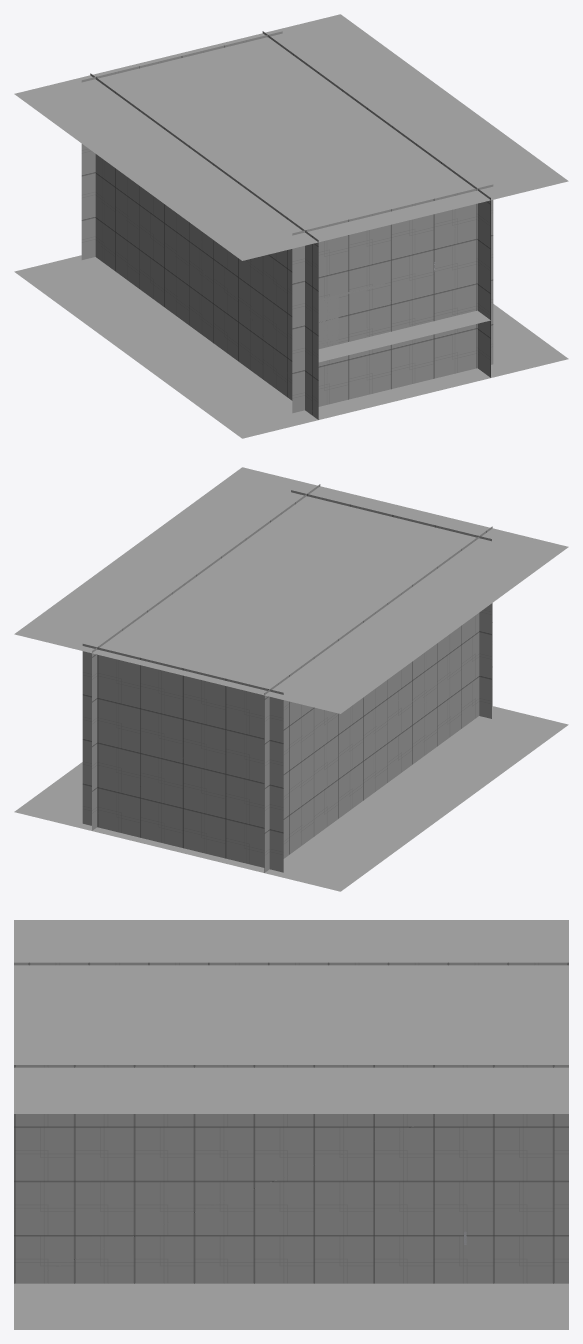
The model's file is CommandCenter.fbx.
The picture shows the model from 3 angles, top to bottom: view 1: azimuth 30°, elevation 25°; view 2: azimuth 150°, elevation 25°; view 3: azimuth 270°, elevation 25°; orthographic projection. The views are drawn at different scales.
Visible parts, largest first — view 1: Ceiling, WallD, WallB, Ground, WallA, MainPlatform, WallC, PlatformStairs; view 2: Ceiling, WallC, WallB, Ground, WallD, WallA; view 3: Ceiling, WallA, Ground, WallB.
Part boxes in pixels (x1,y1,x2,y2): Ceiling: [14, 14, 568, 260]; WallD: [292, 184, 493, 413]; WallB: [90, 73, 318, 419]; Ground: [14, 255, 568, 438]; WallA: [262, 31, 490, 377]; MainPlatform: [318, 310, 490, 362]; WallC: [81, 31, 282, 259]; PlatformStairs: [318, 294, 338, 348]; Ceiling: [14, 467, 568, 713]; WallC: [82, 644, 283, 872]; WallB: [264, 526, 492, 872]; Ground: [14, 706, 568, 891]; WallD: [291, 490, 491, 718]; WallA: [92, 484, 320, 830]; Ceiling: [14, 920, 568, 1113]; WallA: [14, 1065, 568, 1283]; Ground: [14, 1283, 568, 1329]; WallB: [14, 962, 568, 965].
Bounding box in the file's own units: 2893 × 1523 × 3502.
